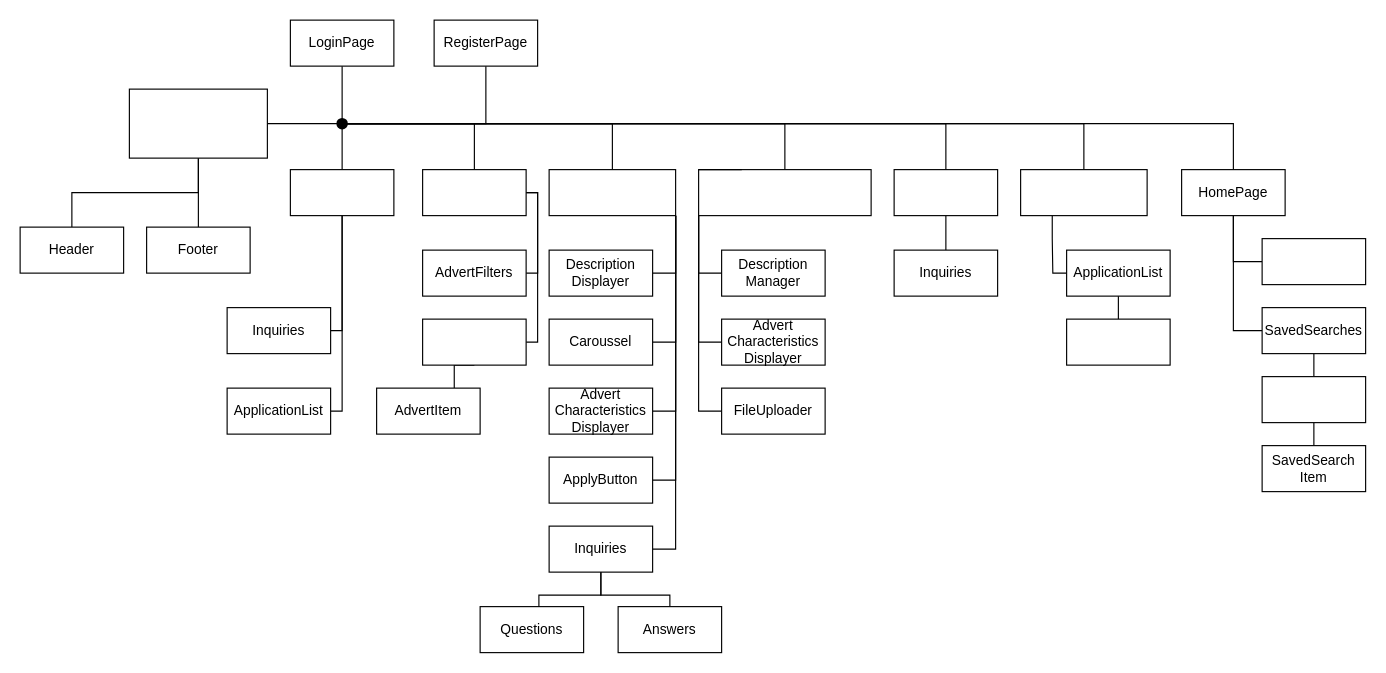
Image size: 1386x673. Some labels were removed from this diagram. Each missing label, with the box of its shape:
AdvertDetailsPage: (548, 168, 676, 216)
AdvertManagementPage: (697, 168, 871, 216)
App: (128, 88, 267, 158)
ApplicationItem: (1065, 318, 1170, 365)
ApplicationsPage: (1019, 168, 1147, 216)
InqueriesPage: (893, 168, 998, 216)
ProfilePage: (289, 168, 394, 216)
QuickSearch: (1261, 237, 1366, 285)
ResultPage: (421, 168, 526, 216)
ResultsList: (421, 318, 526, 365)
SavedSearch List: (1261, 375, 1366, 423)
